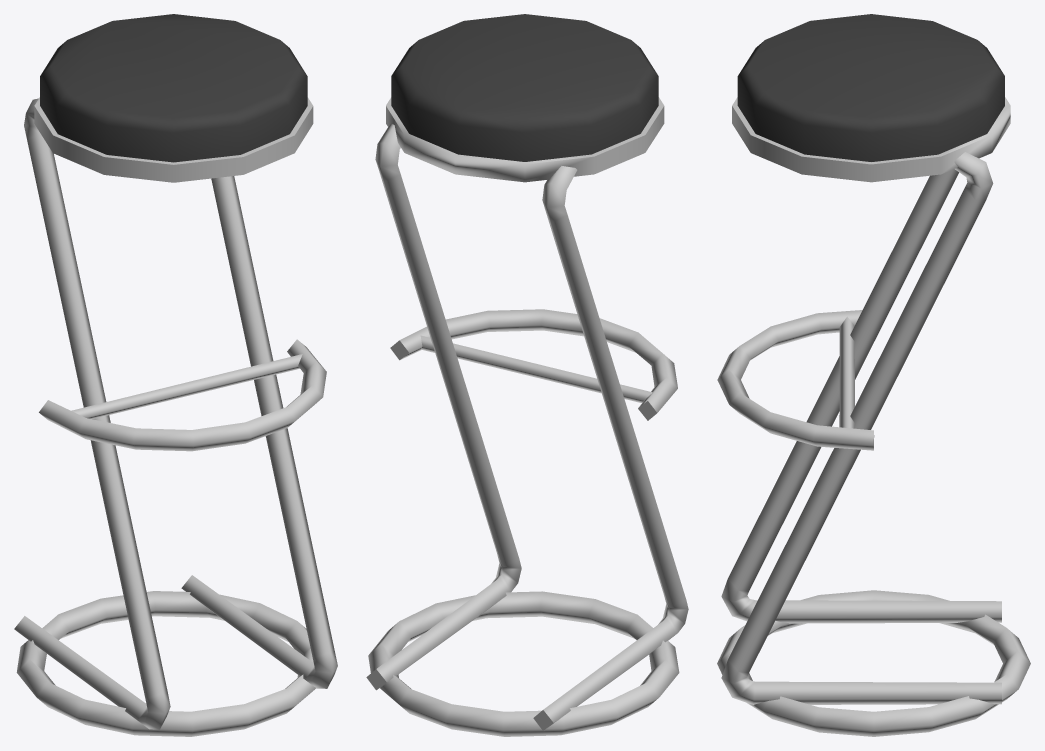
File: chair_021.fbx
3 views of the same model, side by side, from view 1: azimuth 30°, elevation 25°; view 2: azimuth 150°, elevation 25°; view 3: azimuth 270°, elevation 25° (orthographic).
Visible parts, largest first — view 1: chair_021; view 2: chair_021; view 3: chair_021.
Part boxes in pixels (x1=…): chair_021: x1=14, y1=14, x2=337, y2=736; chair_021: x1=366, y1=14, x2=688, y2=736; chair_021: x1=717, y1=14, x2=1030, y2=736.
Bounding box in the file's own units: 53.42 × 53.43 × 115.
